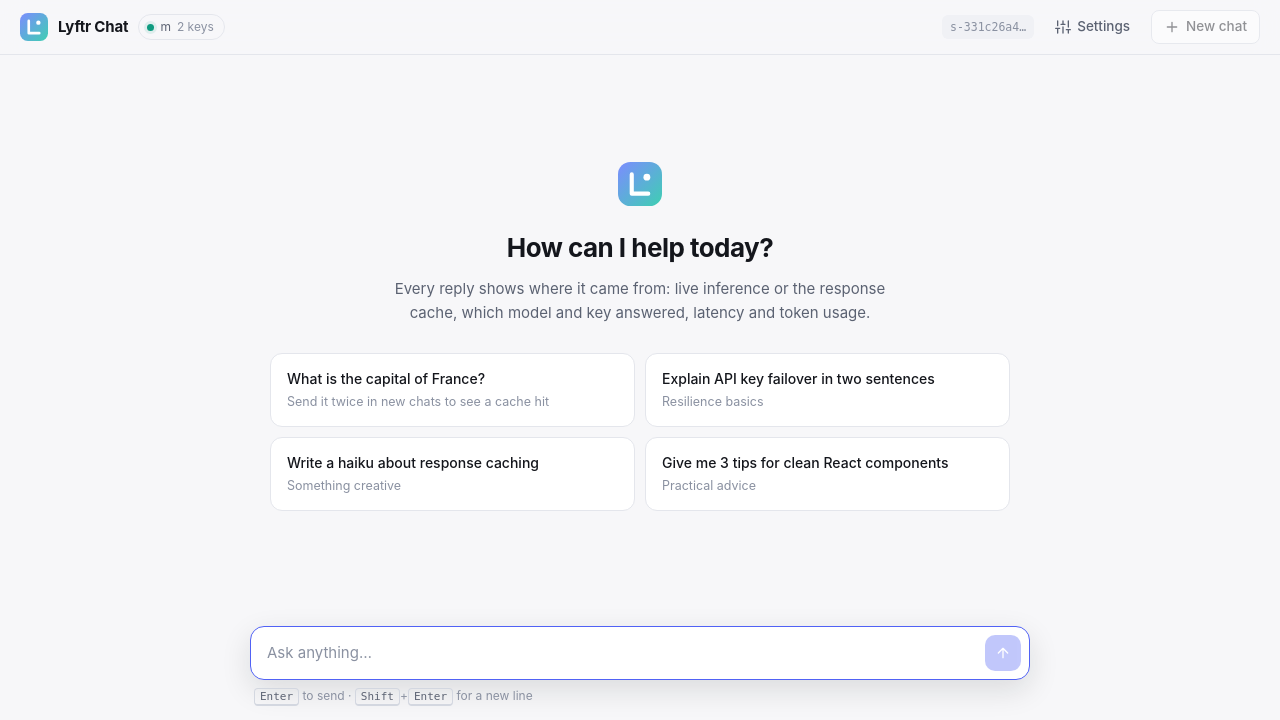
Test: App › sends the system prompt and simulation header from settings
Click the button "Settings": coordinates (1093, 27) 1042,10 -> 1143,44
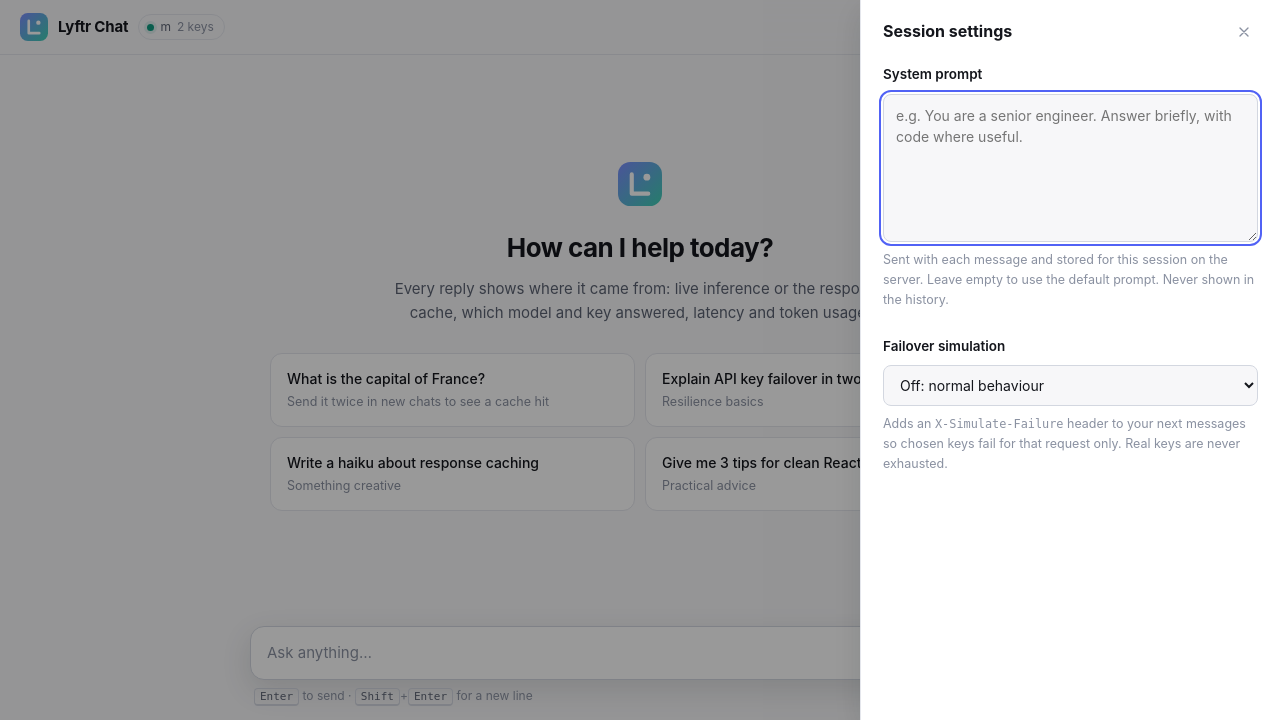
In the text box with test id "system-prompt-input": coordinates (1070, 168) 883,94 -> 1258,242, type "Be brief."
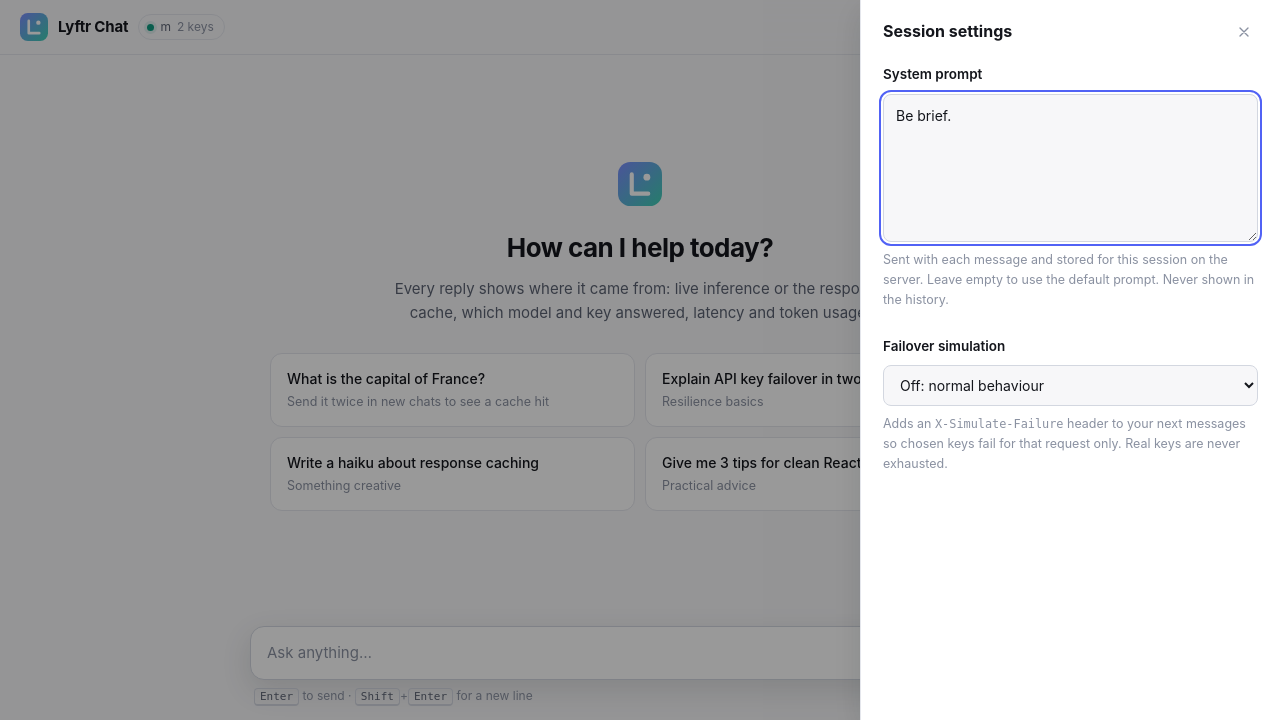
Select "key_1=429: first key rate-limited" in the dropdown with test id "simulate-failure-select": coordinates (1070, 386) 883,365 -> 1258,406
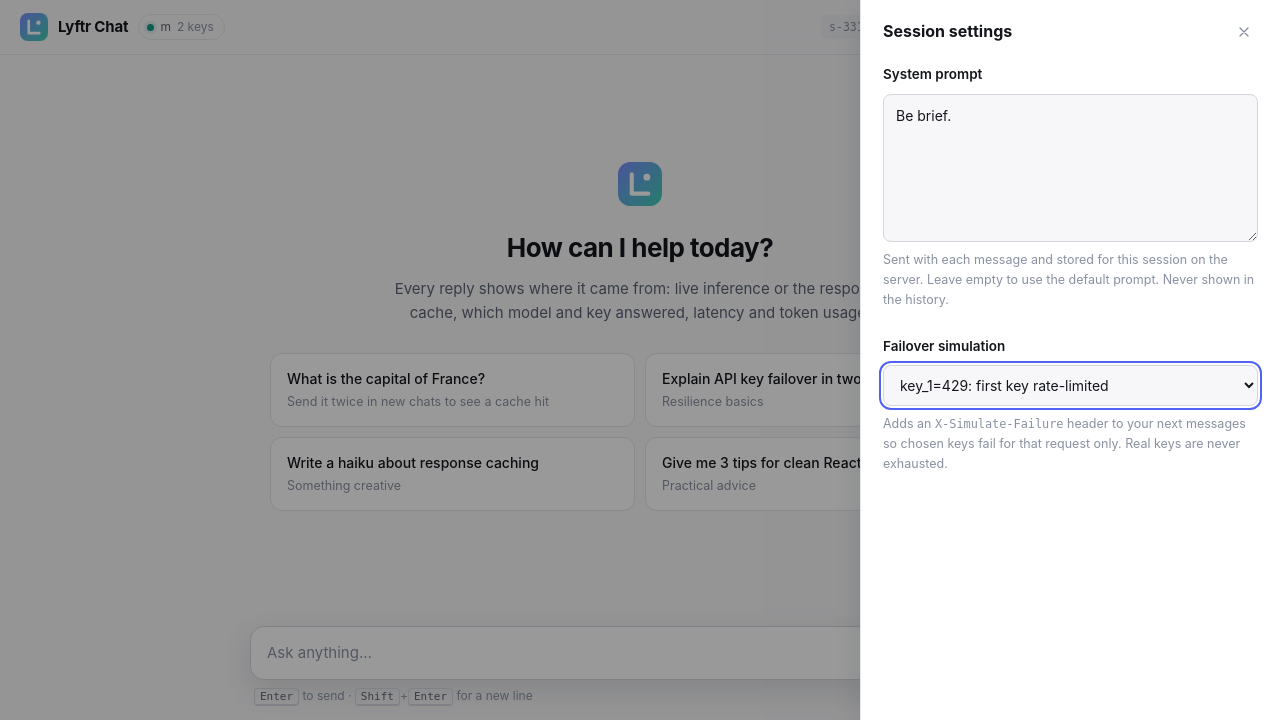
Press Escape
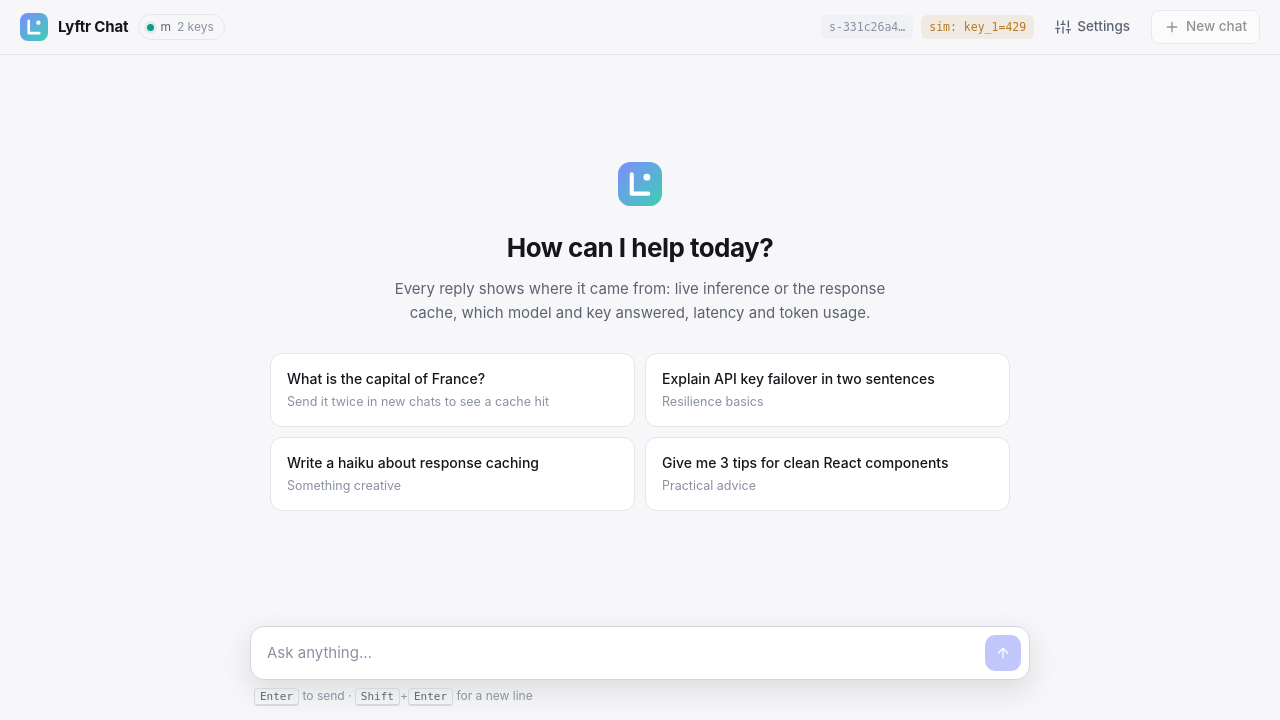
In the text box with test id "chat-input": coordinates (622, 654) 267,636 -> 977,671, type "hi"
Then press Enter
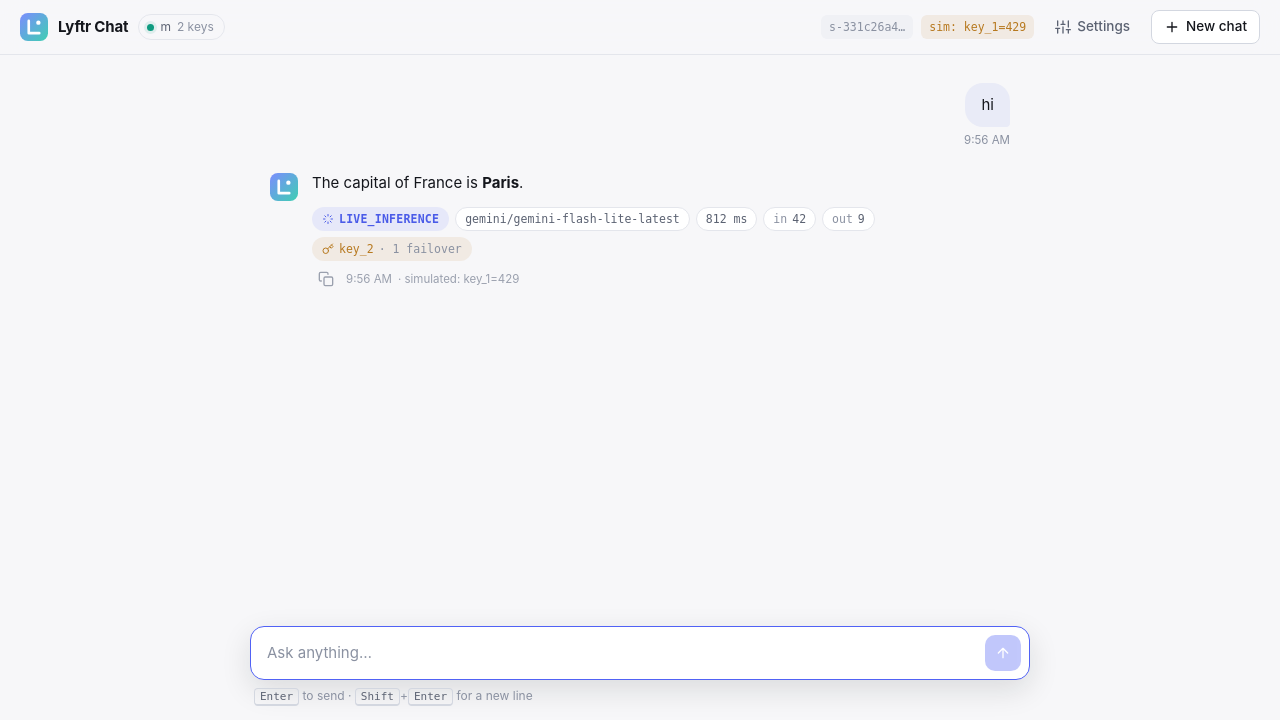
Check: the element with test id "assistant-message" is shown, box 312,173 -> 875,293
